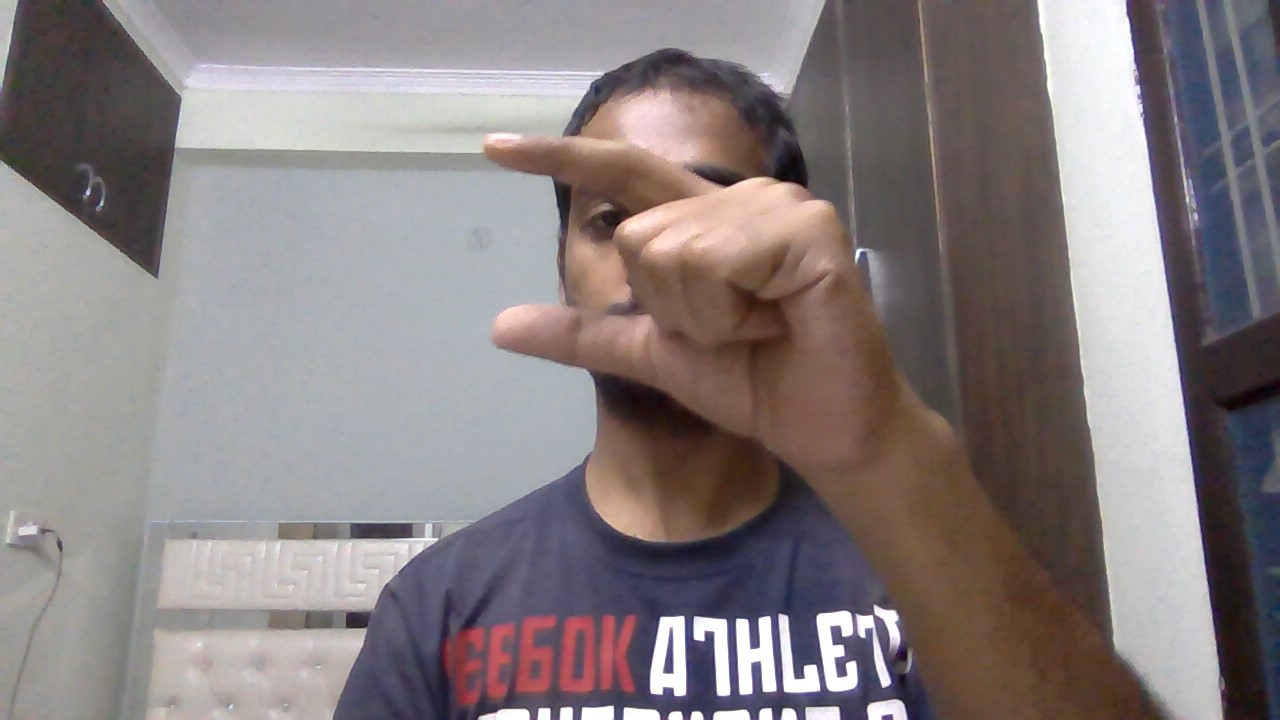Paste: (458, 117, 928, 484)
